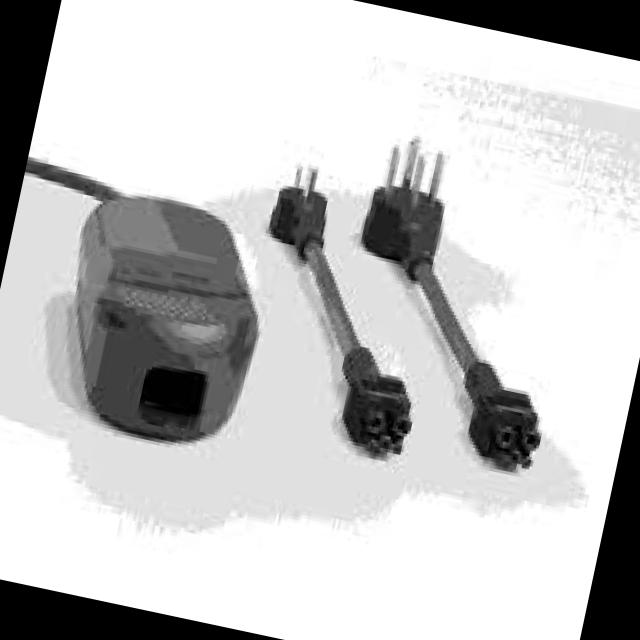power_bank: (40, 178, 290, 464)
